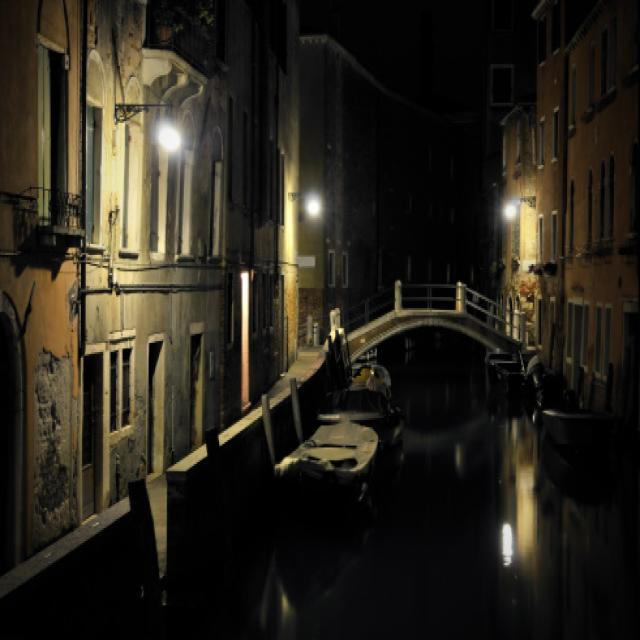Boat: (205, 411, 419, 547), (521, 362, 633, 529), (328, 346, 405, 446)
